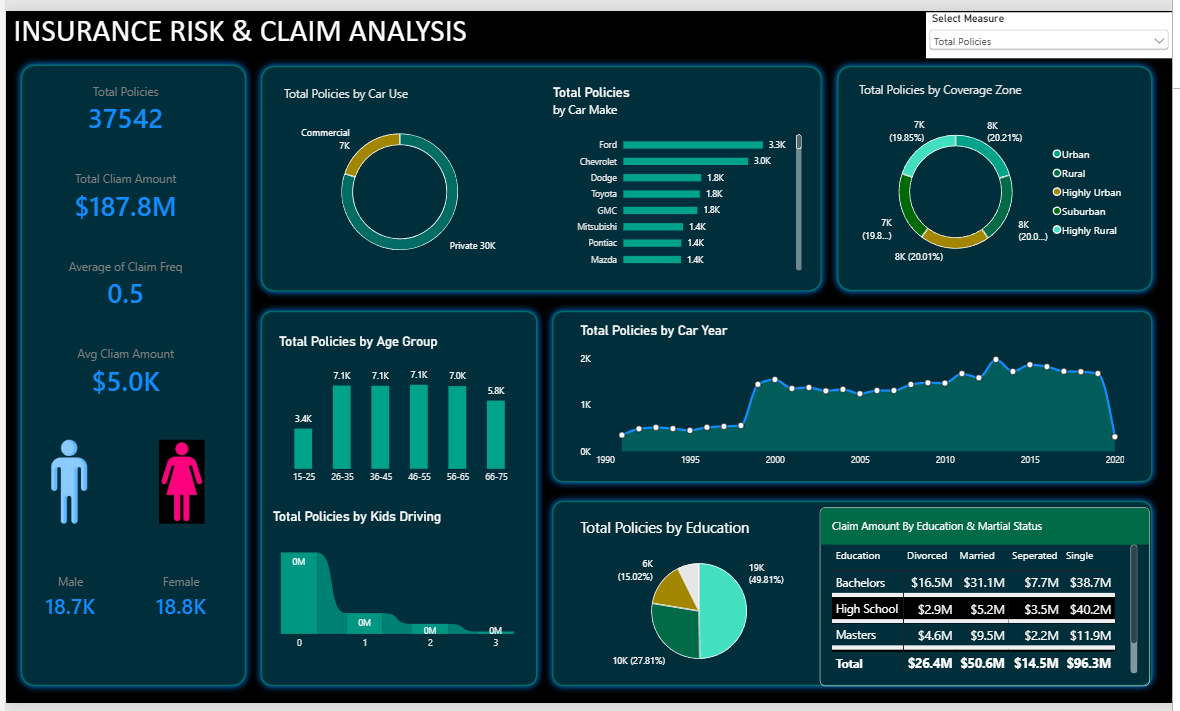

What the dashboard file says about the page in this screenshot:
{"tool":"powerbi","page":{"name":"Page 1","canvas":[1600,950],"ordinal":0},"visuals":[{"type":"textbox","box":[10.3,0,850.8,63.5],"z":0},{"type":"shape","box":[10.3,63.5,329.3,873.1],"z":1000},{"type":"cardVisual","fields":{"Data":["insurance_data_car.Total Policies","insurance_data_car.Total Cliam Amount","Avg(insurance_data_car.Claim Freq)","insurance_data_car.Avg Cliam Amount"]},"box":[29.2,85.8,270,460],"z":2000},{"type":"cardVisual","fields":{"Data":["insurance_data_car.Male Count","insurance_data_car.Female Count"]},"box":[22.3,749.6,284.7,109.8],"z":3000},{"type":"image","box":[29.2,588.3,115,115],"z":4000},{"type":"image","box":[183.5,588.3,115,115],"z":5000},{"type":"slicer","fields":{"Values":["Select Measure.Select Measure"]},"box":[1262.4,1.7,337.9,63.5],"z":6000},{"type":"shape","box":[339.6,65.2,790,330],"z":7000},{"type":"donutChart","fields":{"Y":["insurance_data_car.Total Cliam Amount"],"Category":["insurance_data_car.Car Use"]},"box":[365.4,87.5,349.9,284.7],"z":8000},{"type":"clusteredBarChart","fields":{"Category":["insurance_data_car.Car Make"],"Y":["insurance_data_car.Total Cliam Amount"]},"box":[734.1,87.5,373.9,284.7],"z":8001},{"type":"shape","box":[1130.4,65.2,452.8,329.3],"z":8002},{"type":"donutChart","fields":{"Y":["insurance_data_car.Total Cliam Amount"],"Category":["insurance_data_car.Coverage Zone","insurance_data_car.Car Use"]},"box":[1154.4,82.3,401.4,295],"z":8003},{"type":"shape","box":[339.6,401.4,399.7,535.2],"z":8004},{"type":"columnChart","fields":{"Category":["insurance_data_car.Age Group"],"Y":["insurance_data_car.Total Cliam Amount"]},"box":[358.5,428.8,365,240],"z":8005},{"type":"ribbonChart","fields":{"Category":["insurance_data_car.Kids Driving"],"Y":["insurance_data_car.Total Cliam Amount"]},"box":[349.9,669,373.9,226.4],"z":8006},{"type":"shape","box":[739.3,401.4,843.9,255.6],"z":8007},{"type":"areaChart","fields":{"Category":["insurance_data_car.Car Year"],"Y":["insurance_data_car.Total Cliam Amount"]},"box":[771.9,413.4,778.7,231.6],"z":8008},{"type":"shape","box":[739.3,662.1,843.9,274.4],"z":8009},{"type":"pieChart","fields":{"Category":["insurance_data_car.Education"],"Y":["insurance_data_car.Total Cliam Amount"]},"box":[771.9,681,358.5,243.6],"z":8010},{"type":"pivotTable","title":"Claim Amount By Education & Martial Status","fields":{"Rows":["insurance_data_car.Education"],"Columns":["insurance_data_car.Marital Status"],"Values":["insurance_data_car.Total Cliam Amount"]},"box":[1116.6,681,452.8,245.3],"z":8011}]}

Visuals, with their boxes in screenshot pixels (x1, y1, x2, y2), scaled from the page's 1600x950 canvas onto the 1180x711 screenshot:
textbox: 8, 0, 635, 48
shape: 8, 48, 250, 701
cardVisual - insurance_data_car.Total Policies x insurance_data_car.Total Cliam Amount: 22, 64, 221, 408
cardVisual - insurance_data_car.Male Count x insurance_data_car.Female Count: 16, 561, 226, 643
image: 22, 440, 106, 526
image: 135, 440, 220, 526
slicer - Select Measure.Select Measure: 931, 1, 1179, 49
shape: 250, 49, 833, 296
donutChart - insurance_data_car.Total Cliam Amount x insurance_data_car.Car Use: 269, 65, 528, 279
clusteredBarChart - insurance_data_car.Car Make x insurance_data_car.Total Cliam Amount: 541, 65, 817, 279
shape: 834, 49, 1168, 295
donutChart - insurance_data_car.Total Cliam Amount x insurance_data_car.Coverage Zone: 851, 62, 1147, 282
shape: 250, 300, 545, 701
columnChart - insurance_data_car.Age Group x insurance_data_car.Total Cliam Amount: 264, 321, 534, 501
ribbonChart - insurance_data_car.Kids Driving x insurance_data_car.Total Cliam Amount: 258, 501, 534, 670
shape: 545, 300, 1168, 492
areaChart - insurance_data_car.Car Year x insurance_data_car.Total Cliam Amount: 569, 309, 1144, 483
shape: 545, 496, 1168, 701
pieChart - insurance_data_car.Education x insurance_data_car.Total Cliam Amount: 569, 510, 834, 692
"Claim Amount By Education & Martial Status" pivotTable: 823, 510, 1157, 693
